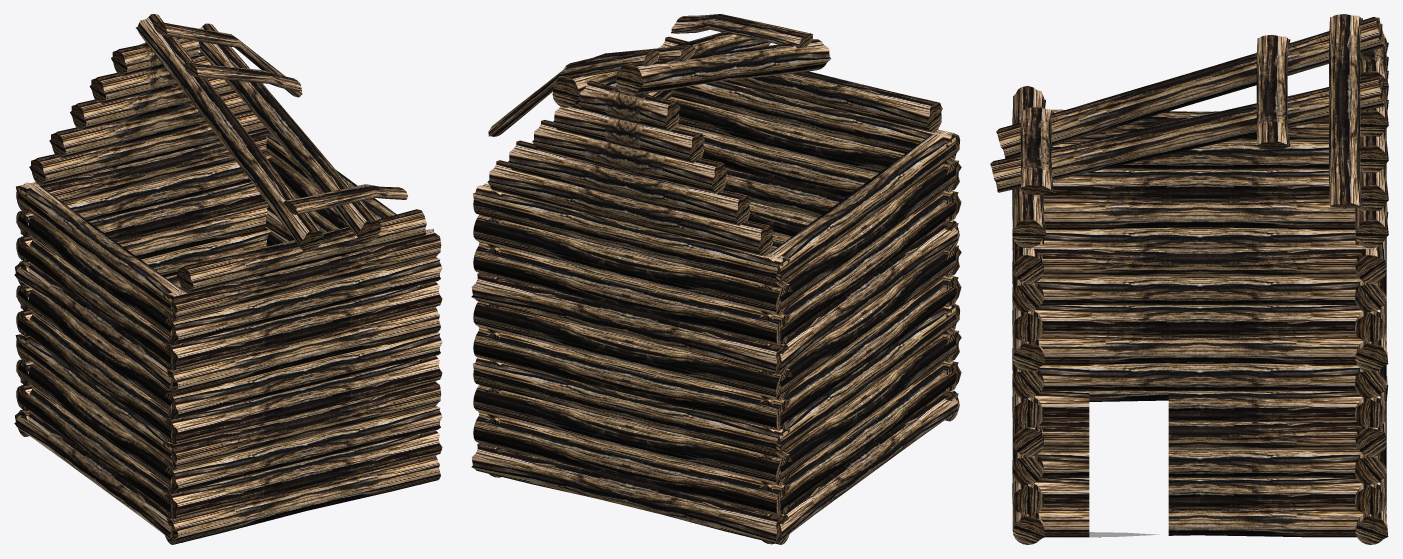
File: woodenHouse.fbx
3 views of the same model, side by side, from view 1: azimuth 30°, elevation 25°; view 2: azimuth 150°, elevation 25°; view 3: azimuth 270°, elevation 25° (orthographic). The views are drawn at different scales.
Parts seen in each view (by area): view 1: polySurface27; view 2: polySurface27; view 3: polySurface27.
Boxes of the visible parts, x1,y1,x2,y2 form: polySurface27: (14,14,442,544); polySurface27: (471,14,961,544); polySurface27: (990,14,1388,544).
Bounding box in the file's own units: 454 × 630 × 502.
2 materials, 1 textured.
